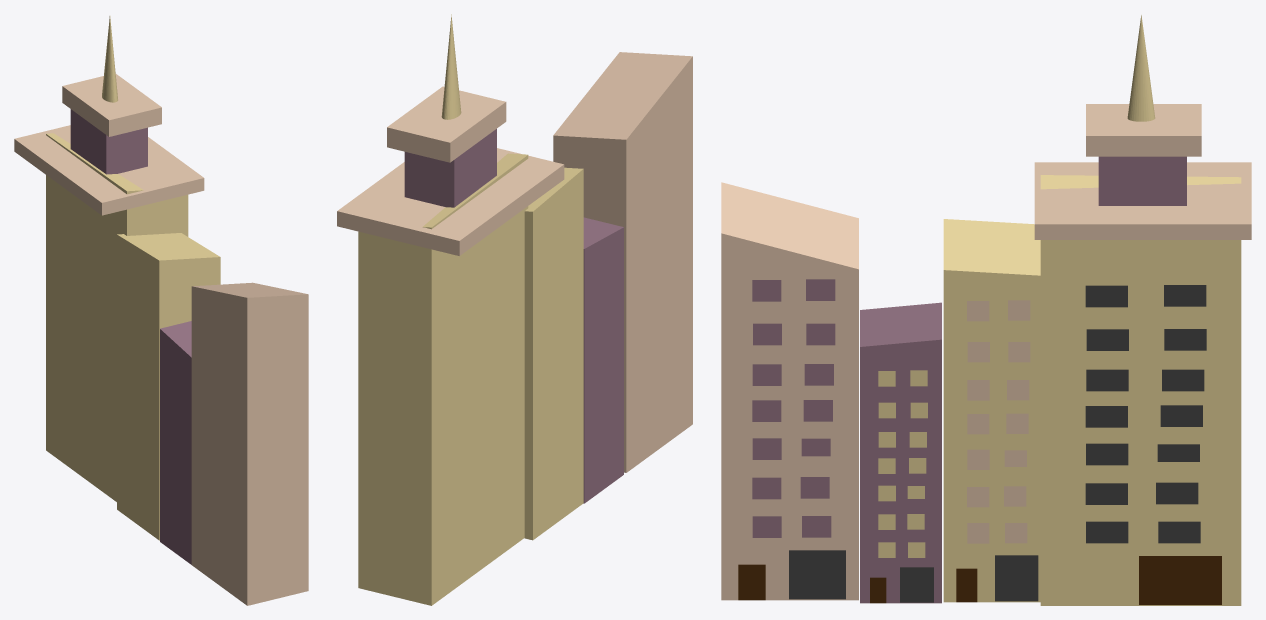
The model's file is edificiosjuntos.fbx.
3 renders of one model, left to right at view 1: azimuth 30°, elevation 25°; view 2: azimuth 150°, elevation 25°; view 3: azimuth 270°, elevation 25°, orthographic. The views are drawn at different scales.
Visible parts, largest first — view 1: Cube.005, Cube.001, Cube.002, Cube; view 2: Cube.005, Cube.001, Cube.002, Cube; view 3: Cube.005, Cube.001, Cube.002, Cube.
Boxes of the visible parts, left/top/right/bottom form: Cube.005: left=14, top=16, right=204, bottom=501; Cube.001: left=191, top=282, right=308, bottom=605; Cube.002: left=117, top=233, right=220, bottom=540; Cube: left=160, top=321, right=191, bottom=564; Cube.005: left=337, top=14, right=564, bottom=605; Cube.001: left=553, top=52, right=692, bottom=472; Cube.002: left=524, top=167, right=583, bottom=540; Cube: left=583, top=217, right=623, bottom=503; Cube.005: left=1034, top=15, right=1251, bottom=605; Cube.001: left=721, top=182, right=858, bottom=600; Cube.002: left=943, top=219, right=1040, bottom=602; Cube: left=860, top=302, right=941, bottom=603.
Bounding box in the file's own units: 4.6 × 19.81 × 16.68.
